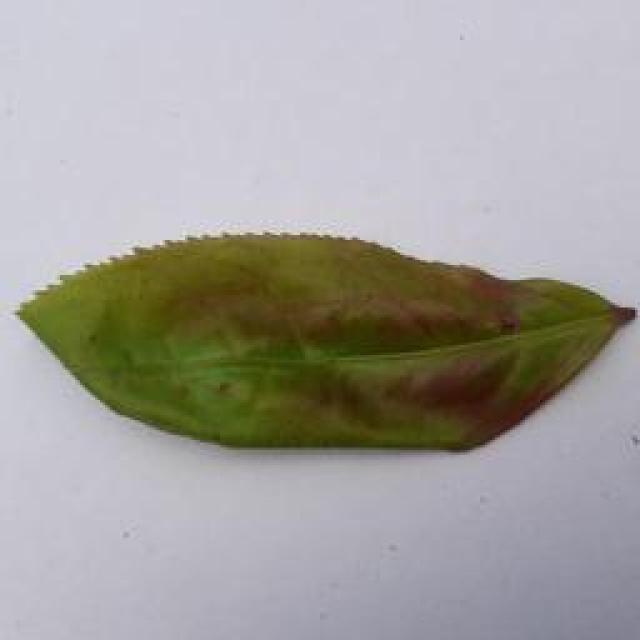Red Leaf Spot: (25, 216, 640, 467)
